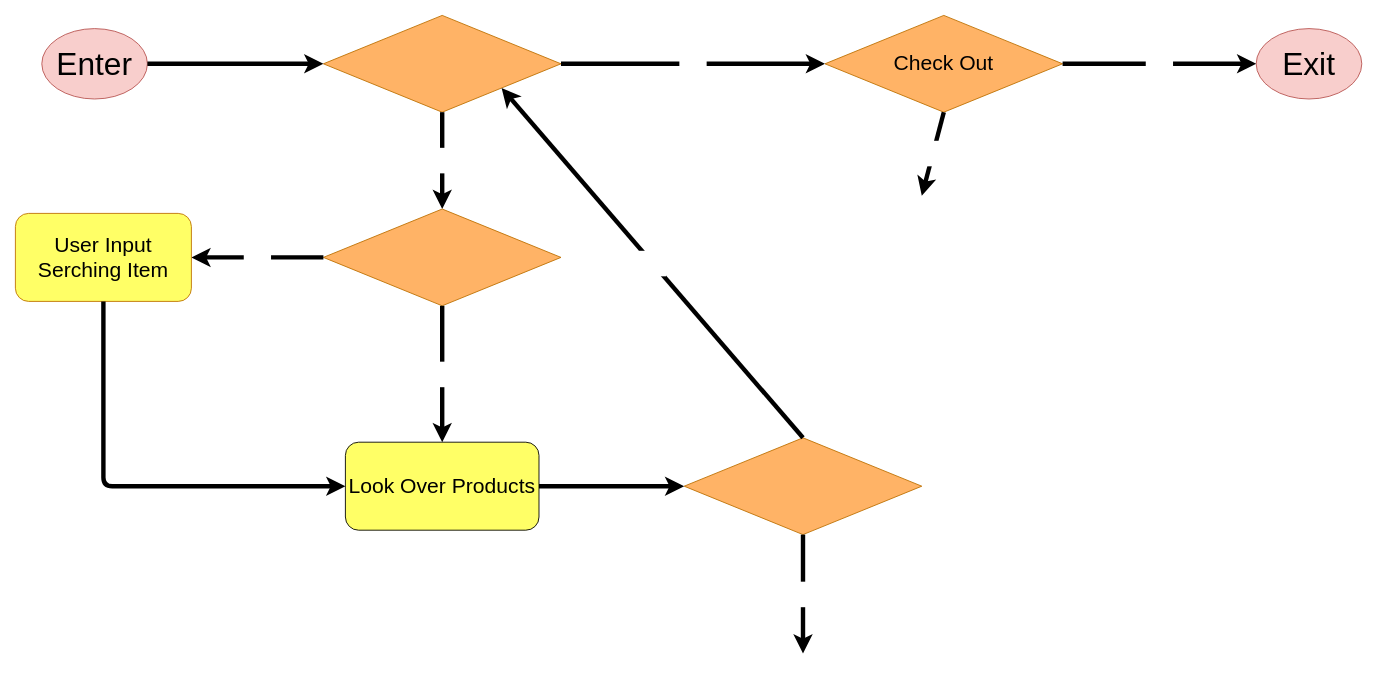
Some shapes in this 1377 by 678 pixel diagram are drawn without their labels. Each missing label, with the centre of its shape:
"Continue Shopping" belongs at (442,63).
"Search Product" belongs at (442,257).
"View Specific Product" belongs at (802,486).
